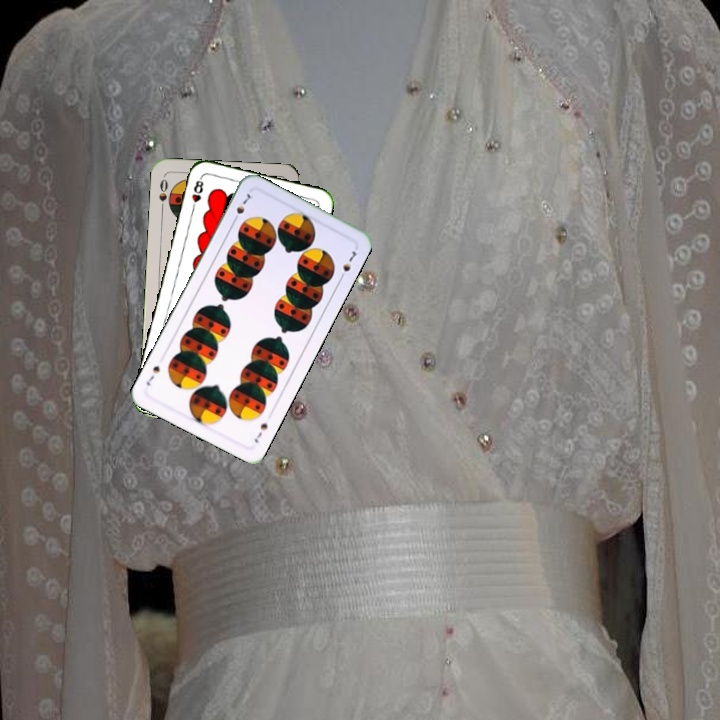H8: (188, 173, 206, 214)
S7: (229, 189, 256, 225), (250, 418, 270, 446)
SO: (155, 175, 170, 213)
